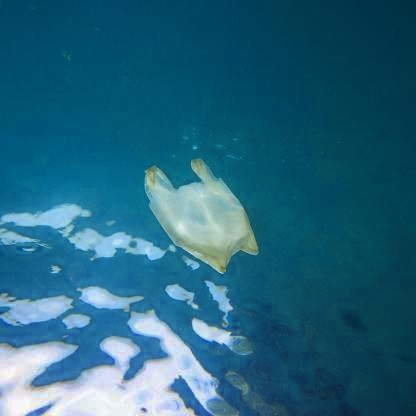pbag: (140, 154, 264, 278)
